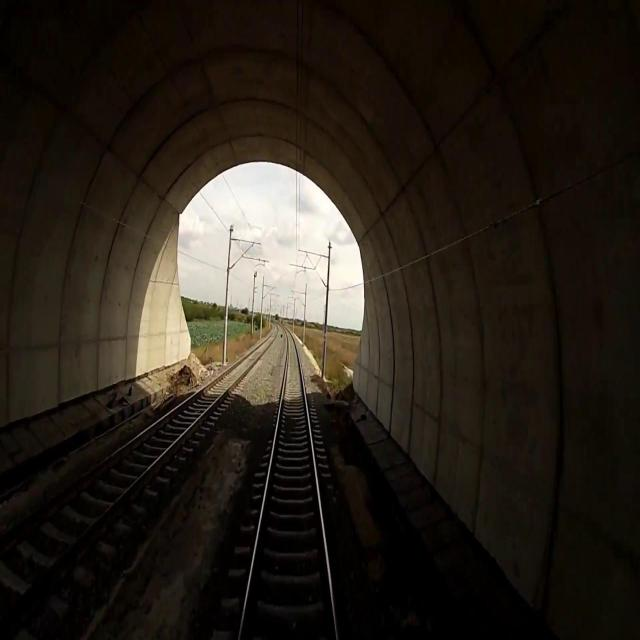rail-track: (242, 334, 334, 639)
